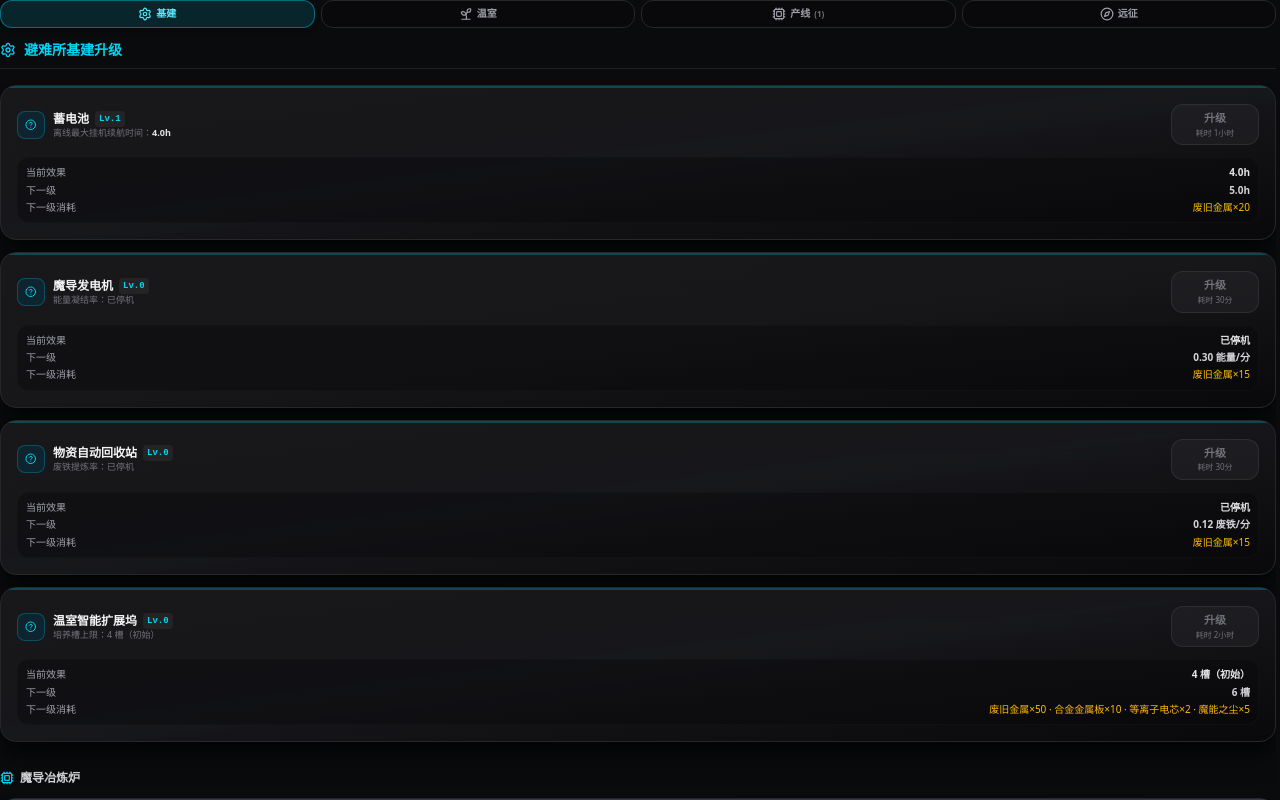
Test: 生产/取消弹窗（issue 08 变体 B） › 生产中点「取消任务」打开确认弹窗：退款预览 + 确认取消回待机
Step 1. Click the button "产线 (1)" → (798, 14), box [641,0,956,28]
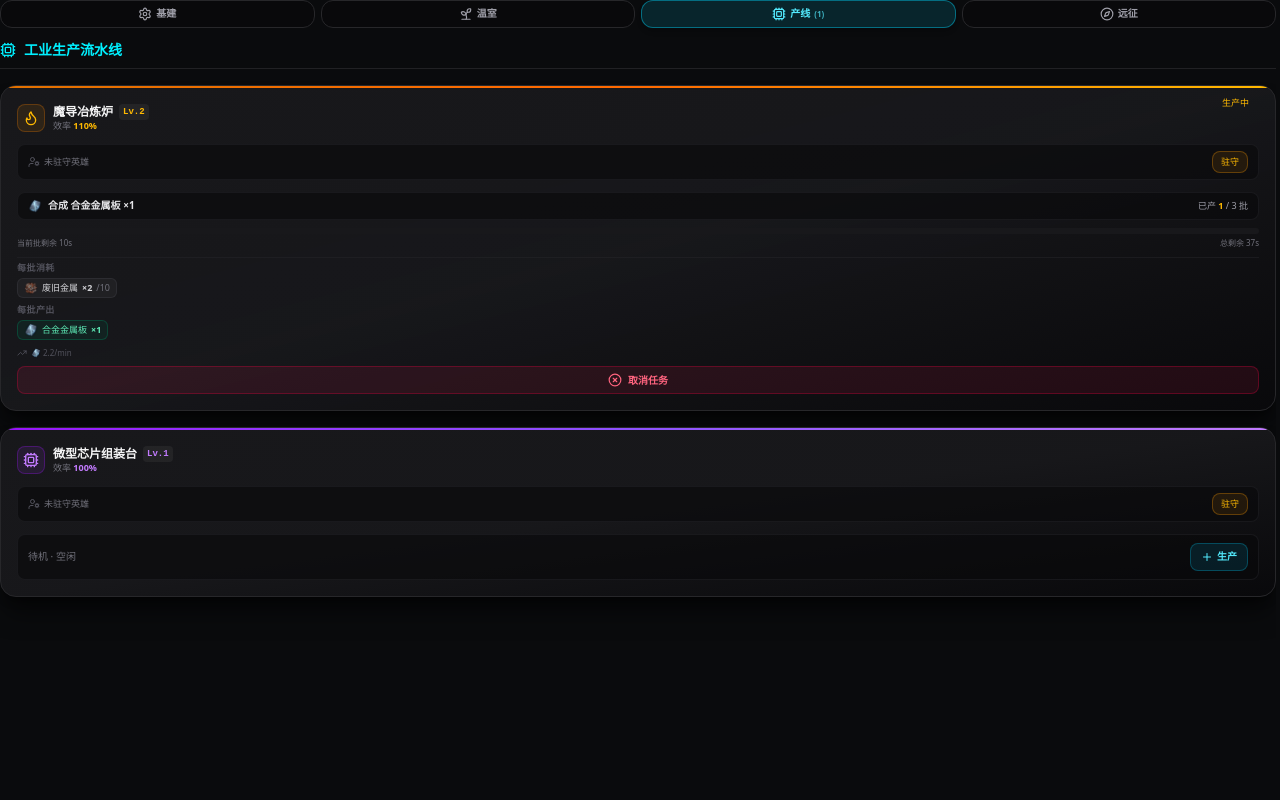
Step 2. Click the button with test id "cancel-task-btn-smelter-0" → (638, 380), box [17,366,1259,394]
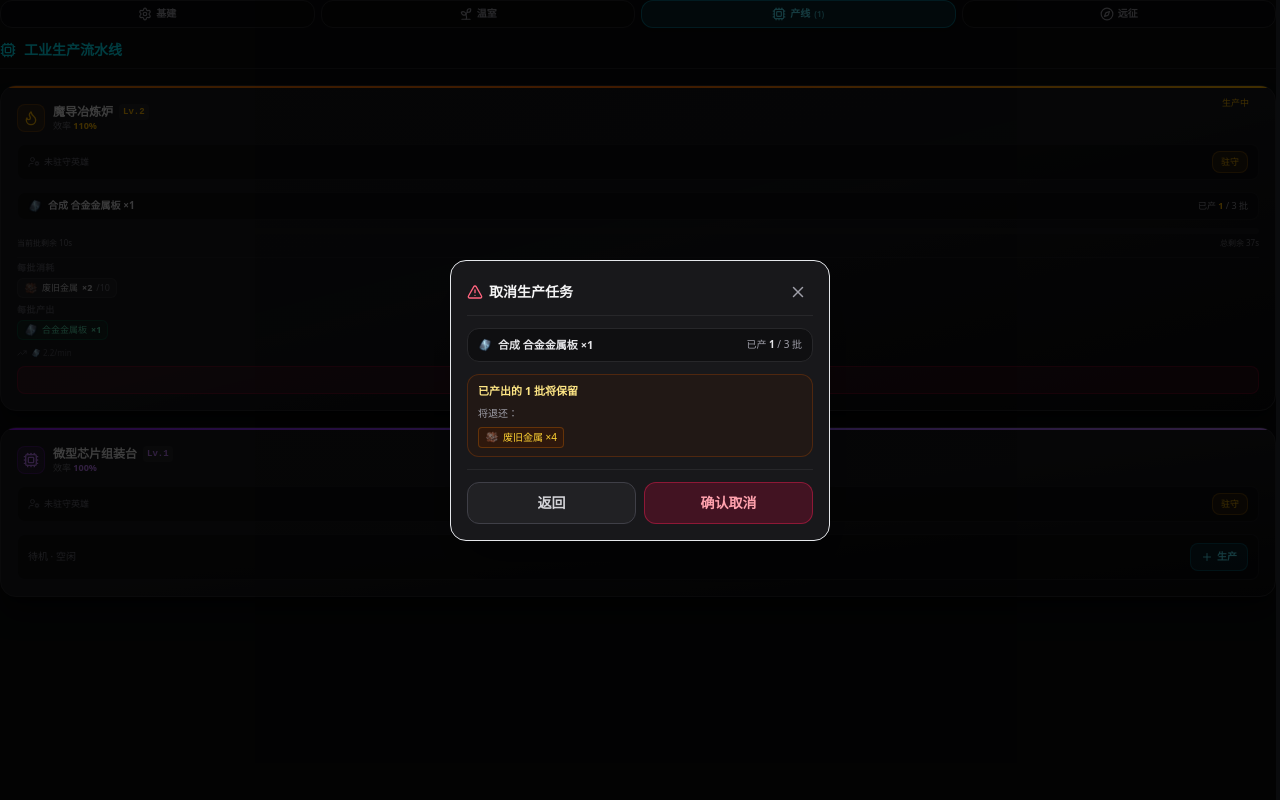
expect the element with test id "cancel-task-container" is shown: met, box [450,260,830,540]
expect the text "已产出的 1 批将保留" is shown: met, box [478,383,578,398]
expect the text "废旧金属 ×4" is shown: met, box [478,426,564,448]
Step 3. Click the button with test id "cancel-task-confirm" → (728, 502), box [644,482,813,524]
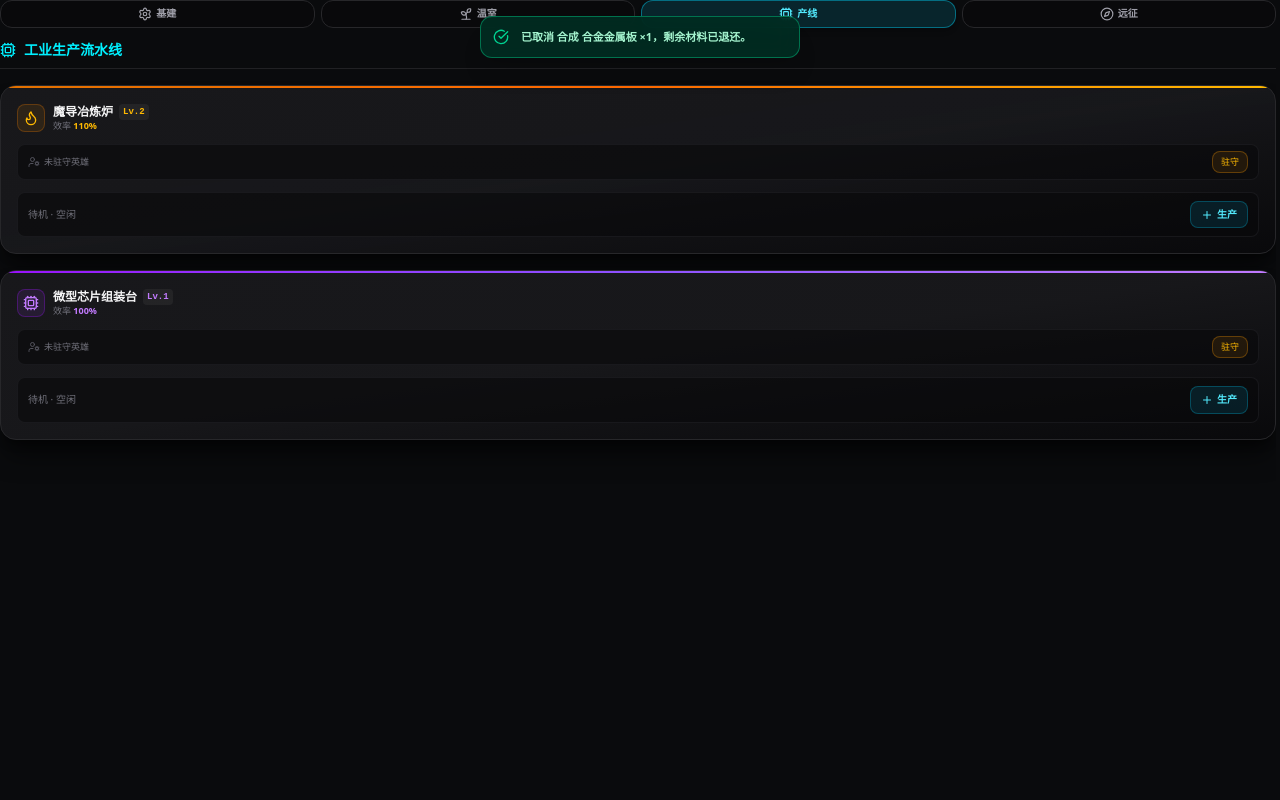
expect the element with test id "cancel-task-container" is gone: met
expect the text "待机 · 空闲" is shown 2 times: met, box [28,208,76,221]; [28,393,76,407]
expect the button "取消任务" is gone: met
